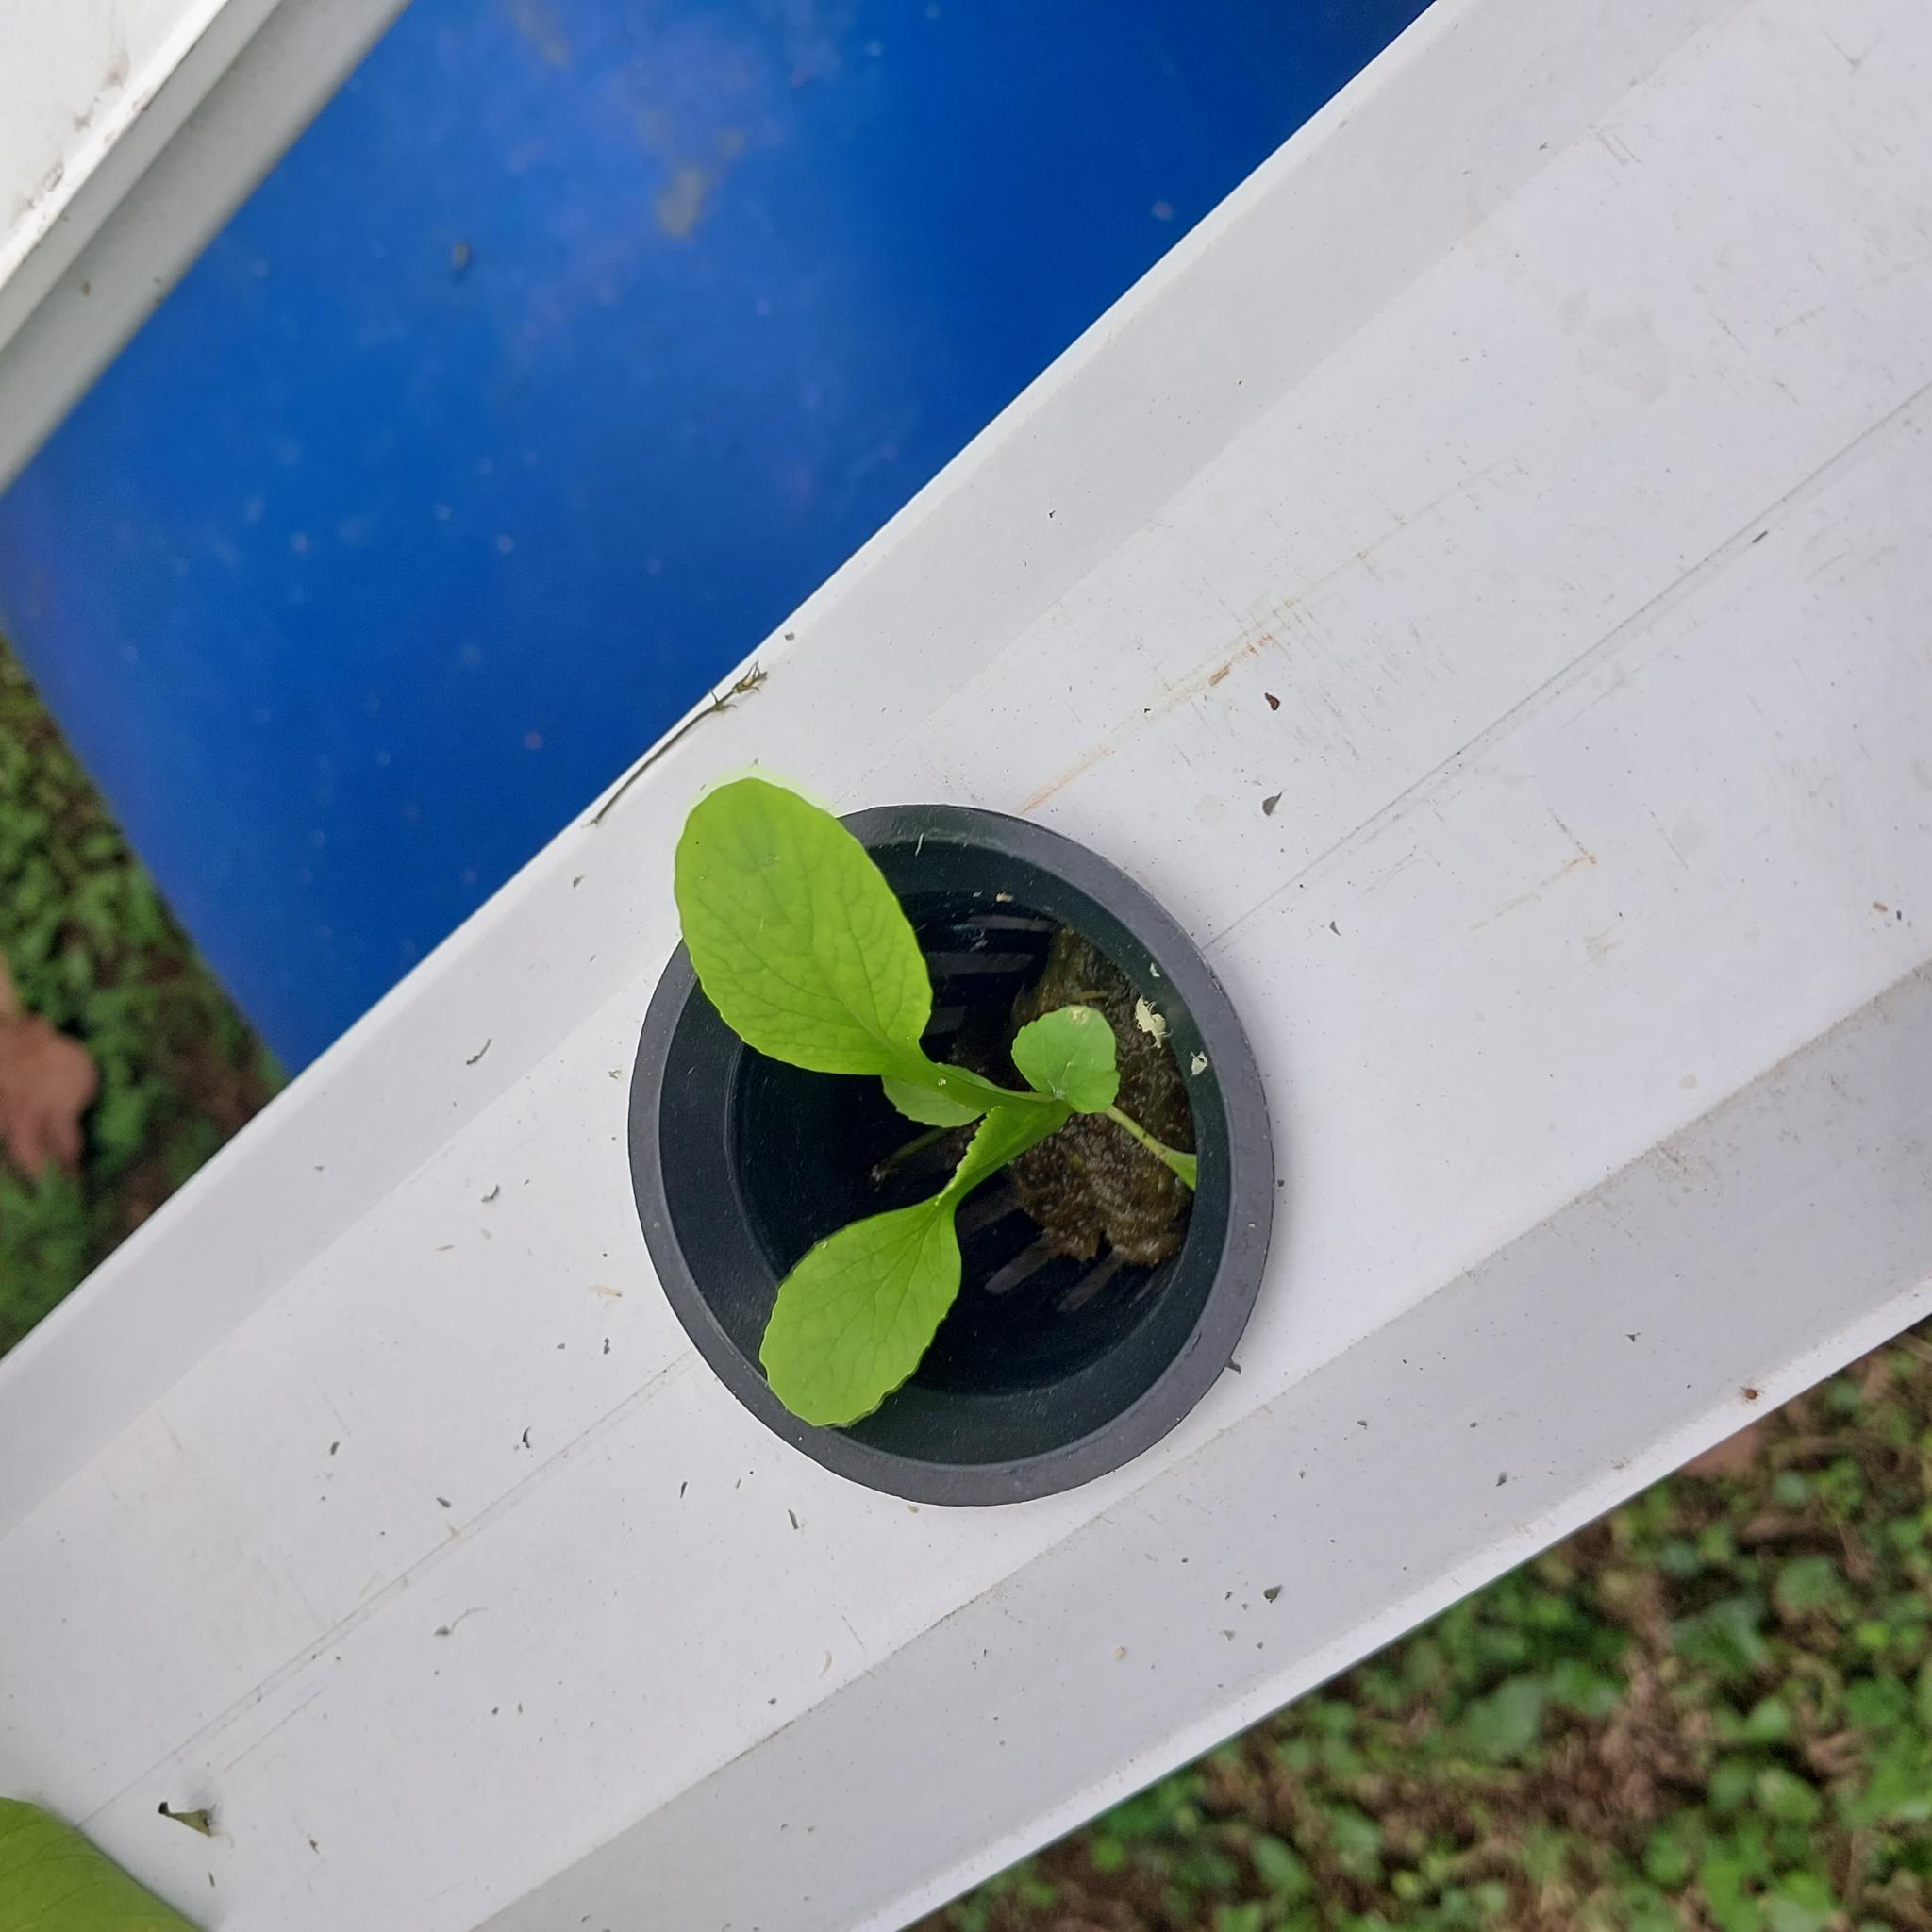Healthy-Pechay: (669, 769, 936, 1097), (761, 1162, 991, 1430), (1007, 1005, 1122, 1120)
